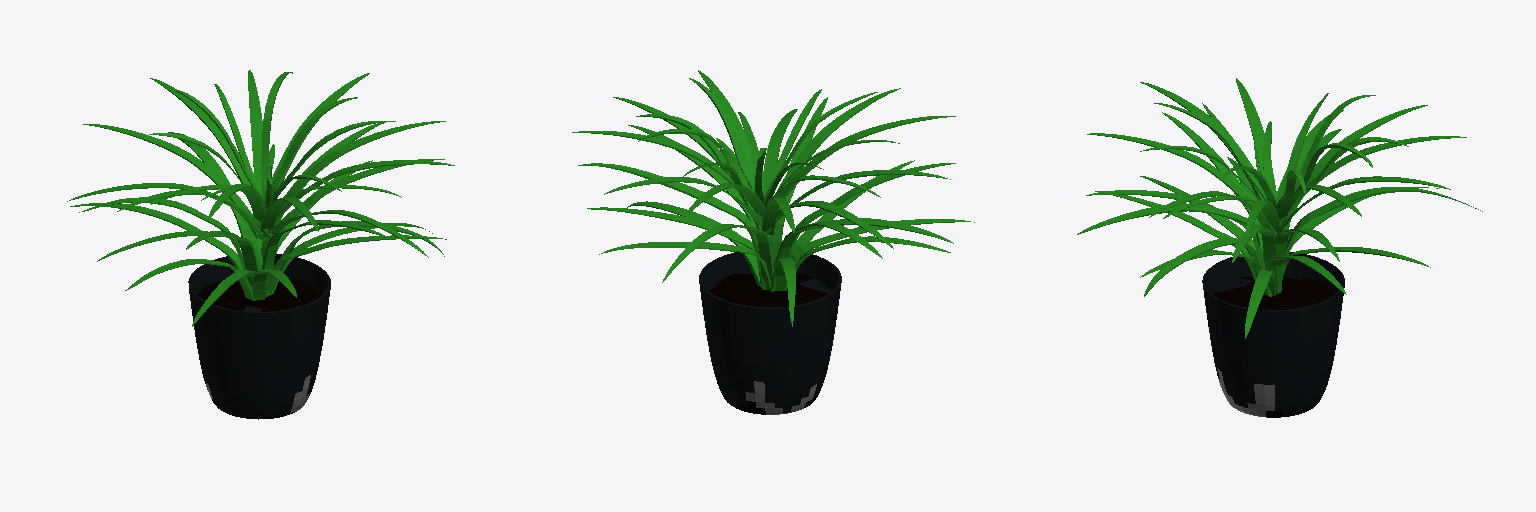
Rendered from plant_test.obj.
The picture shows the model from 3 angles: view 1: azimuth 30°, elevation 25°; view 2: azimuth 150°, elevation 25°; view 3: azimuth 270°, elevation 25°; orthographic projection.
Parts seen in each view (by area): view 1: plant_final:null_, plant_final:null_1; view 2: plant_final:null_, plant_final:null_1; view 3: plant_final:null_, plant_final:null_1.
Boxes of the visible parts, box(x1,y1,x2,y2) form: plant_final:null_: box(67, 70, 454, 326); plant_final:null_1: box(188, 254, 330, 419); plant_final:null_: box(572, 70, 974, 326); plant_final:null_1: box(699, 252, 841, 414); plant_final:null_: box(1077, 78, 1482, 338); plant_final:null_1: box(1202, 252, 1344, 417).
Bounding box in the file's own units: 10.22 × 8.05 × 10.44.